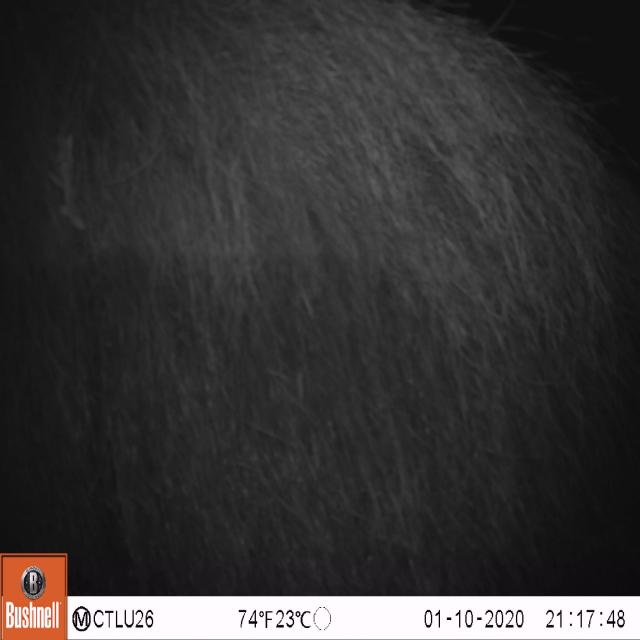Giant Anteater: (0, 2, 640, 588)
